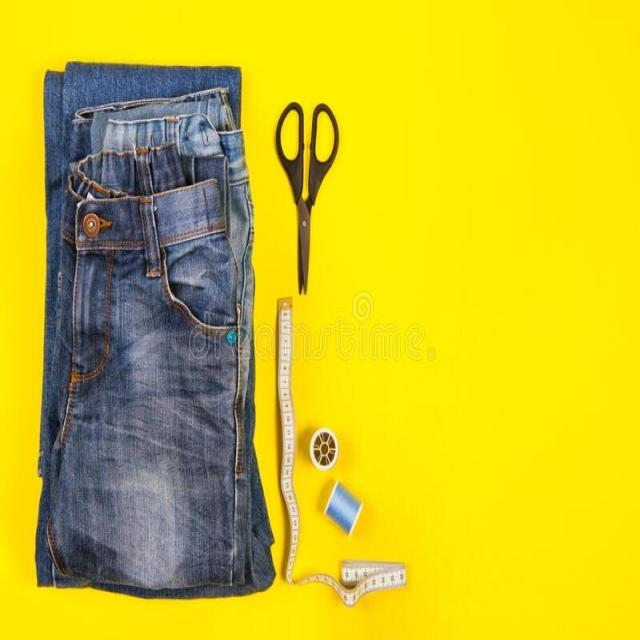clothes: (45, 61, 266, 604)
